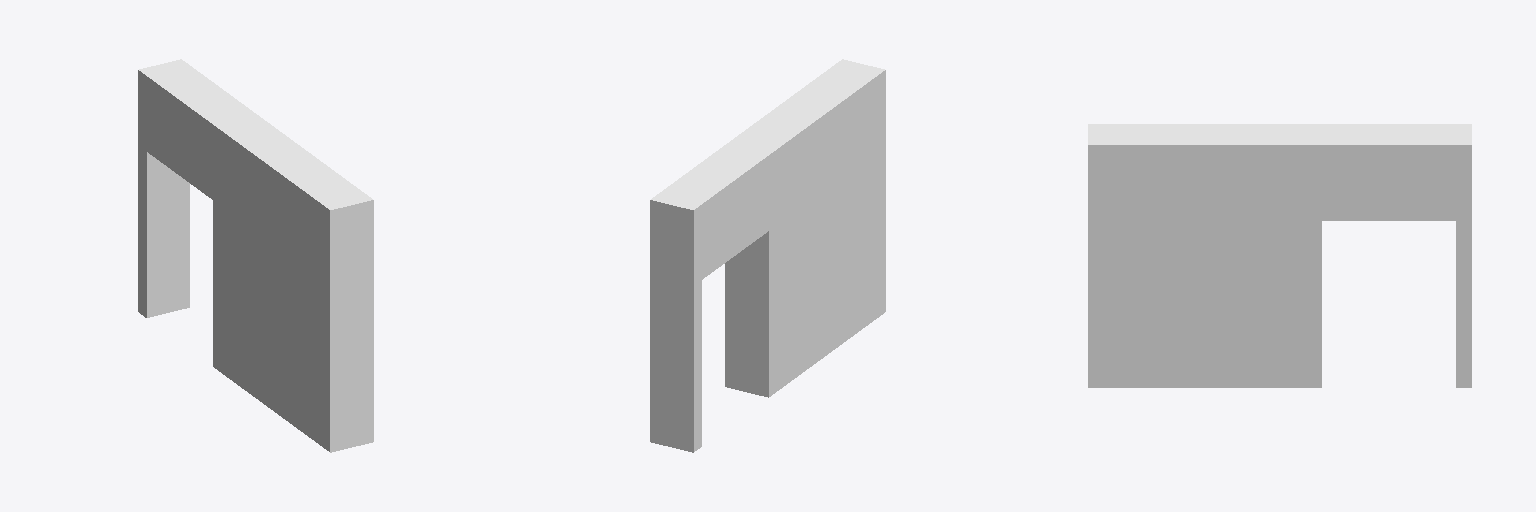
The model's file is WallDoorSide.obj.
The picture shows the model from 3 angles: view 1: azimuth 30°, elevation 25°; view 2: azimuth 150°, elevation 25°; view 3: azimuth 270°, elevation 25°; orthographic projection.
Size of the model in its own units: 3 by 16 by 23.